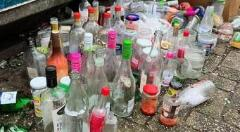glass: (30, 0, 218, 132)
